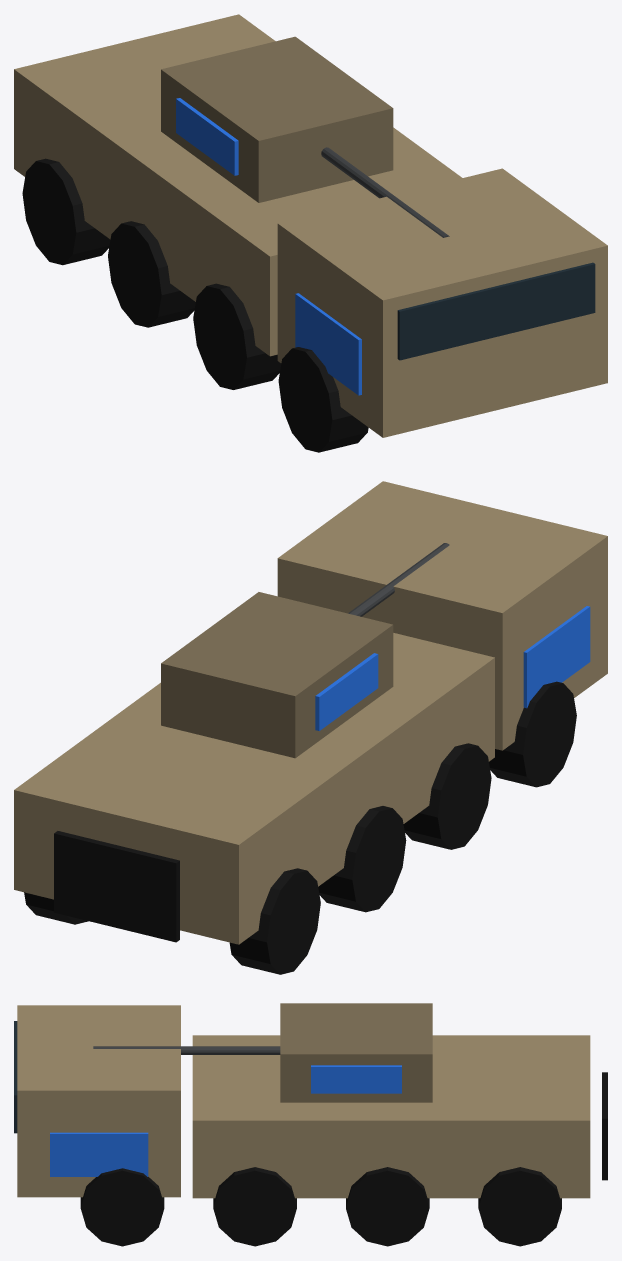
The model's file is ae_ifv.glb.
3 renders of one model, top to bottom at view 1: azimuth 30°, elevation 25°; view 2: azimuth 150°, elevation 25°; view 3: azimuth 270°, elevation 25°, orthographic. The views are drawn at different scales.
Visible parts, largest first — view 1: cab, body, turret, windshield, wheel_l1, wheel_l3, wheel_l2, wheel_l0, team_door_l, team_panel_l, barrel; view 2: body, cab, turret, rear_door, wheel_l3, wheel_l1, wheel_l2, wheel_l0, team_door_l, team_panel_l, barrel, wheel_r3; view 3: body, cab, turret, wheel_r1, wheel_r3, wheel_r2, wheel_r0, team_door_r, team_panel_r, barrel, rear_door, windshield.
Part boxes in pixels (x1,y1,x2,y2): cab: (277,168,607,437); body: (14,14,462,356); turret: (161,36,393,202); windshield: (397,262,595,360); wheel_l1: (193,283,281,389); wheel_l3: (22,158,110,265); wheel_l2: (108,221,195,327); wheel_l0: (278,347,368,452); team_door_l: (295,293,361,395); team_panel_l: (176,98,238,175); barrel: (321,147,449,237); body: (14,633,494,944); cab: (277,481,607,750); turret: (161,592,393,758); rear_door: (54,831,179,942); wheel_l3: (229,868,320,974); wheel_l1: (403,743,491,849); wheel_l2: (318,806,406,912); wheel_l0: (489,681,576,787); team_door_l: (523,606,590,708); team_panel_l: (315,653,378,730); barrel: (348,543,449,616); wheel_r3: (24,892,88,924); body: (192,1035,590,1198); cab: (17,1005,180,1197); turret: (280,1003,432,1102); wheel_r1: (213,1167,296,1246); wheel_r3: (478,1167,561,1246); wheel_r2: (346,1167,429,1246); wheel_r0: (80,1168,164,1246); team_door_r: (50,1132,148,1176); team_panel_r: (311,1065,401,1093); barrel: (93,1046,280,1054); rear_door: (602,1072,607,1180); windshield: (14,1021,17,1133).
Bounding box in the file's own units: 3 × 2.58 × 8.12.
